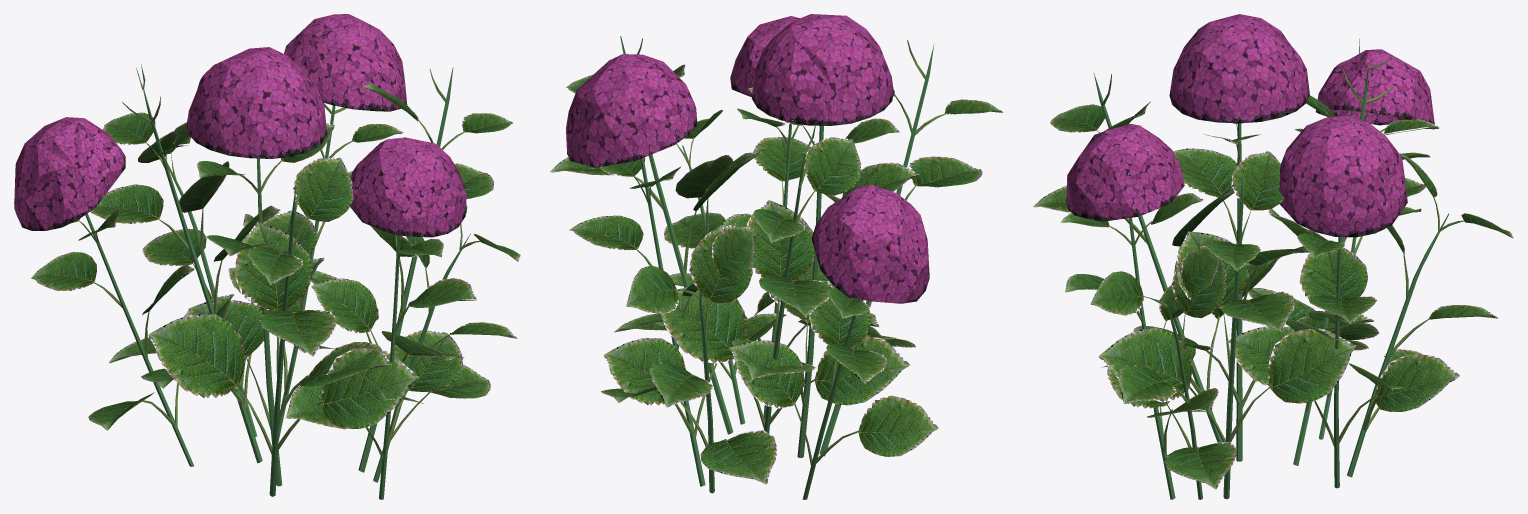
File: sh-scopia-hydrangea.glb
The picture shows the model from 3 angles, left to right: view 1: azimuth 30°, elevation 25°; view 2: azimuth 150°, elevation 25°; view 3: azimuth 270°, elevation 25°; orthographic projection. The views are drawn at different scales.
Parts seen in each view (by area): view 1: Trunk, Hydrangea1; view 2: Trunk, Hydrangea1; view 3: Trunk, Hydrangea1.
Part boxes in pixels (box(x1,y1,x2,y2)): Trunk: box(31, 64, 520, 499); Hydrangea1: box(14, 14, 466, 237); Trunk: box(550, 36, 1003, 499); Hydrangea1: box(566, 14, 929, 303); Trunk: box(1033, 39, 1513, 499); Hydrangea1: box(1066, 14, 1434, 237).
Size of the model in its own units: 1 by 1 by 1.
4 materials, 2 textured.
